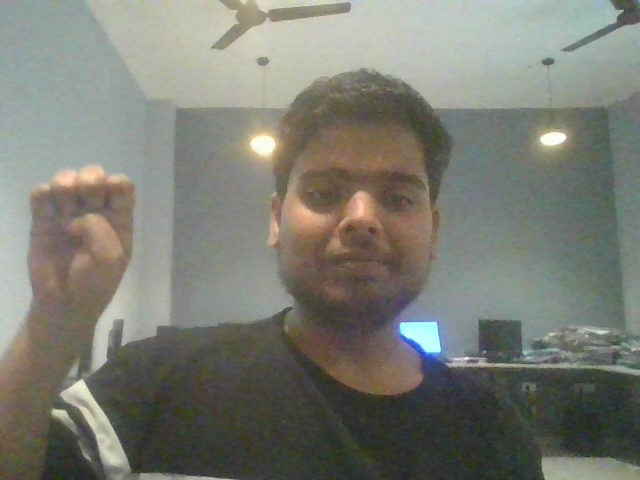E: (12, 160, 142, 316)
